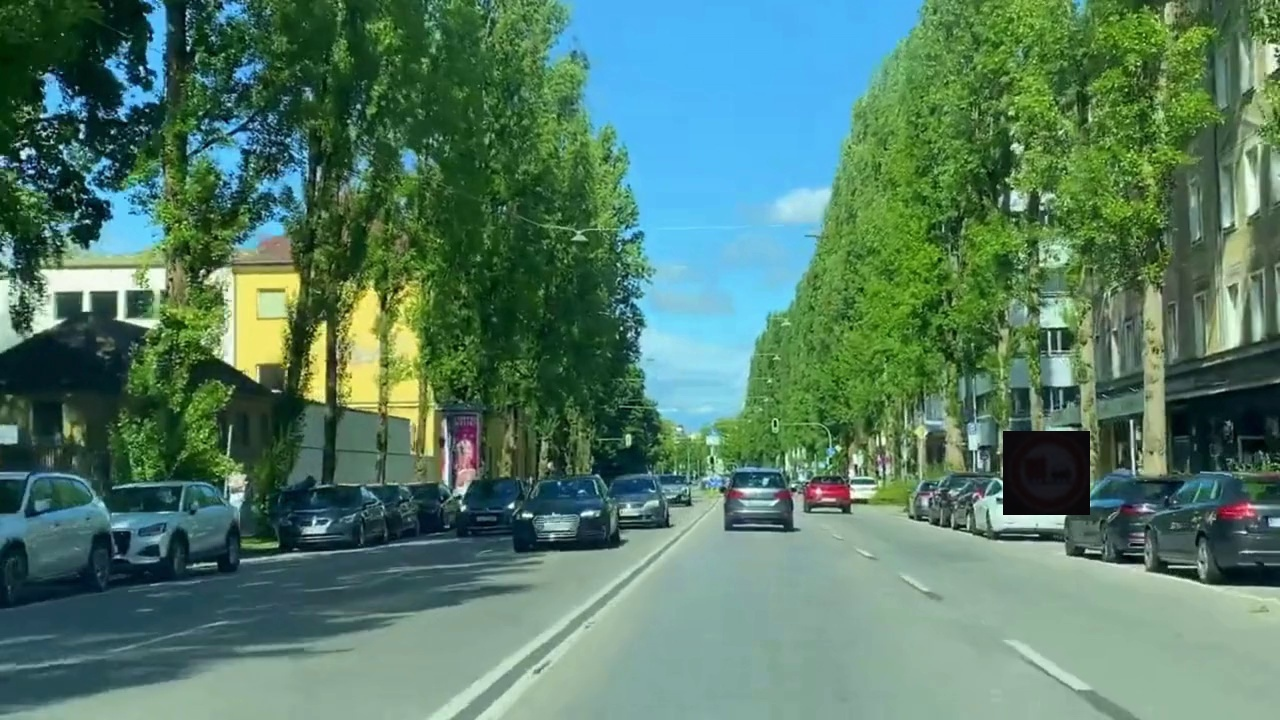No pass >3.5t: (1003, 431, 1090, 515)
